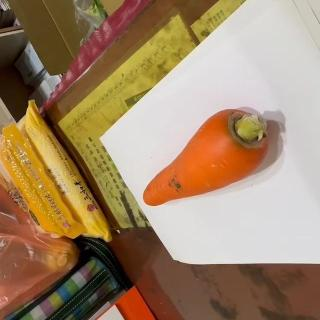carrot: (142, 107, 272, 209)
